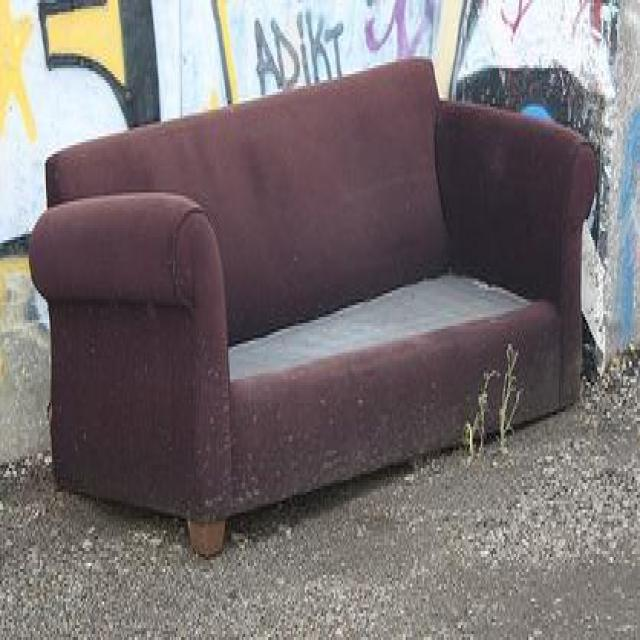sofa: (28, 53, 597, 557)
